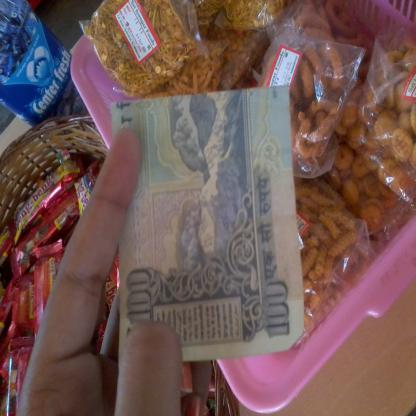Old100Back: (112, 85, 305, 361)
